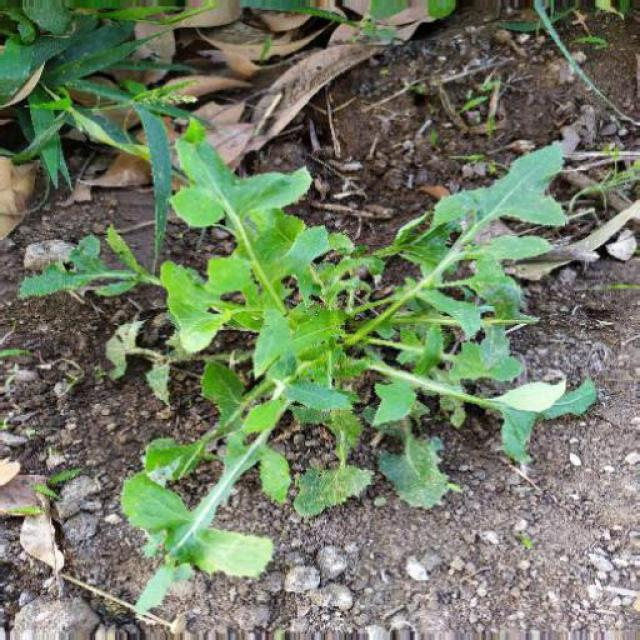weed: (78, 113, 608, 592)
